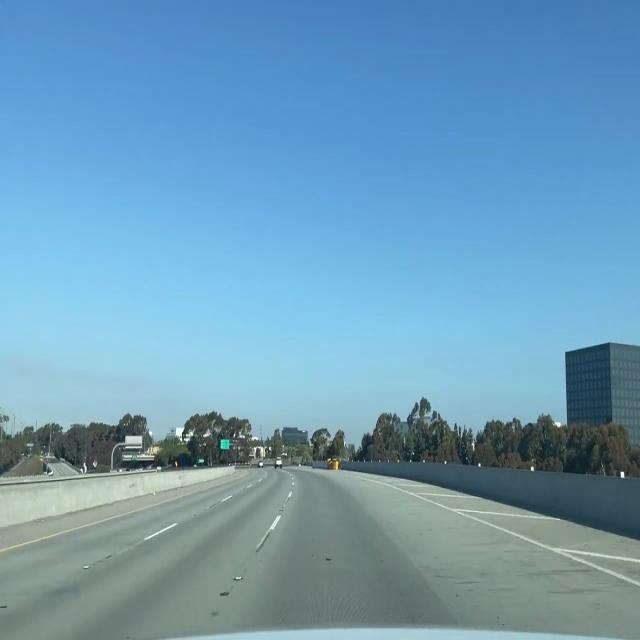street-signs: (220, 437, 230, 451), (198, 458, 204, 462)
